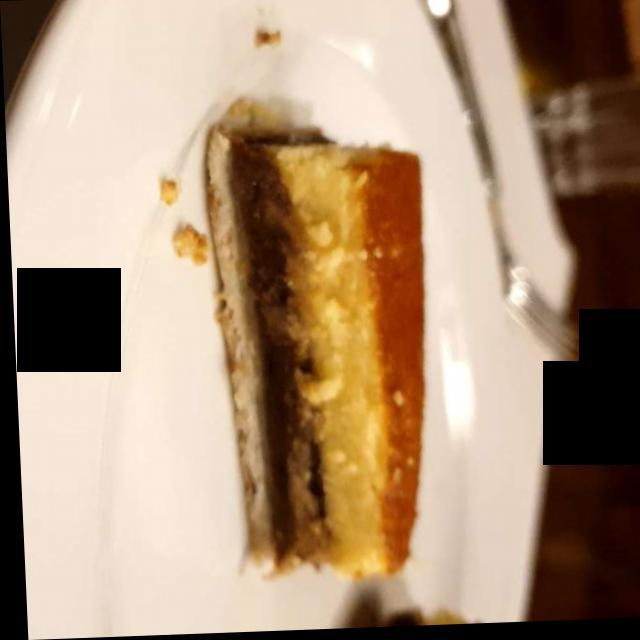fruit-tart: (208, 125, 427, 573)
